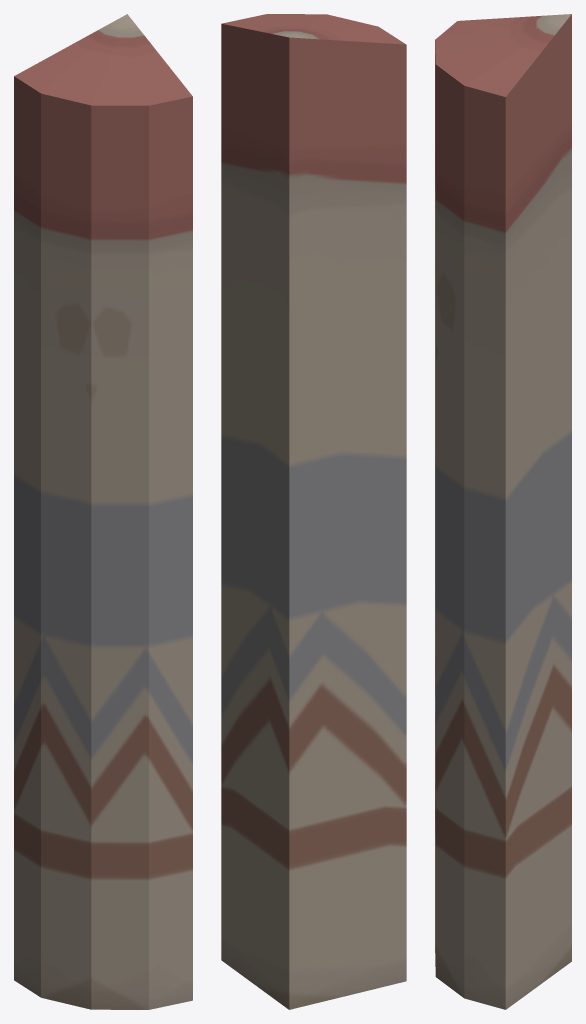
File: SM_Bld_Wall_Balcony_Corner_02.fbx
3 renders of one model, left to right at view 1: azimuth 30°, elevation 25°; view 2: azimuth 210°, elevation 25°; view 3: azimuth 330°, elevation 25°, orthographic. The views are drawn at different scales.
Parts seen in each view (by area): view 1: SM_Bld_Wall_Balcony_Corner_02; view 2: SM_Bld_Wall_Balcony_Corner_02; view 3: SM_Bld_Wall_Balcony_Corner_02.
Boxes of the visible parts, x1,y1,x2,y2 form: SM_Bld_Wall_Balcony_Corner_02: [14, 14, 192, 1009]; SM_Bld_Wall_Balcony_Corner_02: [221, 14, 406, 1009]; SM_Bld_Wall_Balcony_Corner_02: [435, 14, 571, 1009].
Bounding box in the file's own units: 11.31 × 89.54 × 11.31.
